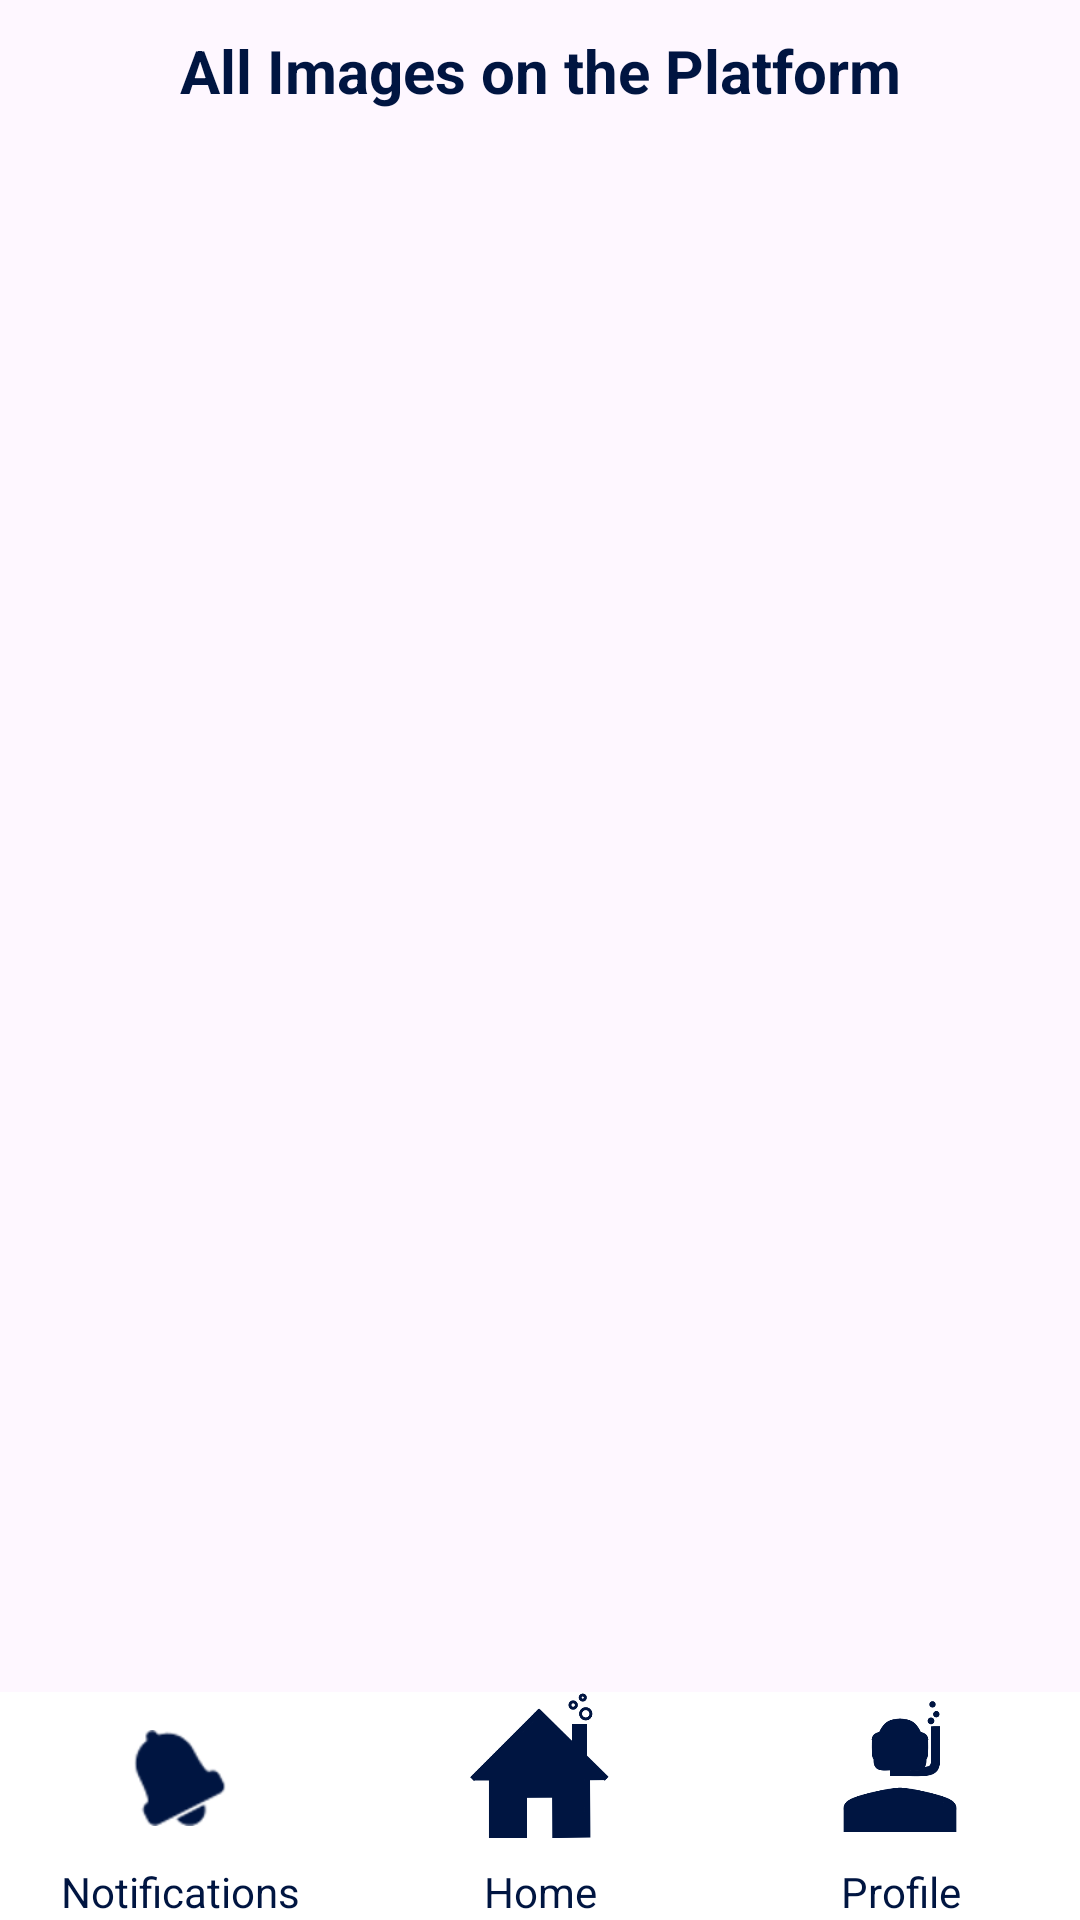

Where to tap for icons on this 1080 x 1920 app screen, as point (x, y):
popup reminder: point (180, 1778)
